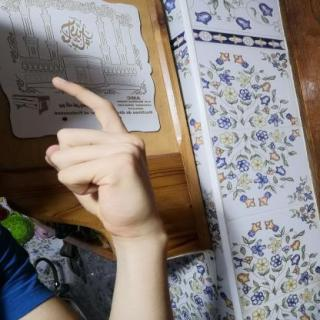RAA: (33, 68, 175, 244)
